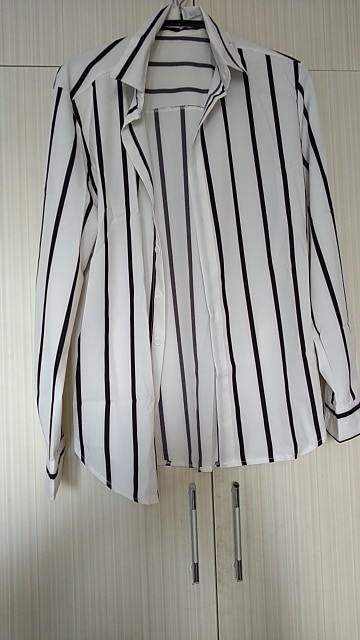shirts: (30, 21, 360, 478)
